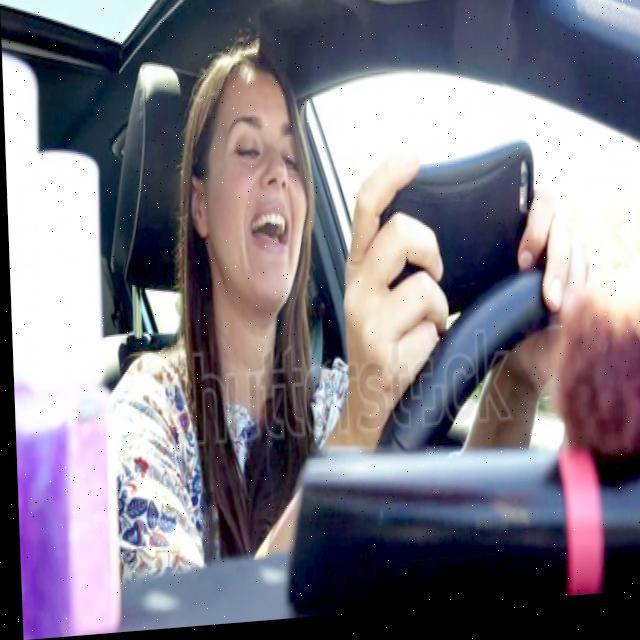PhoneCall: (364, 143, 542, 312)
